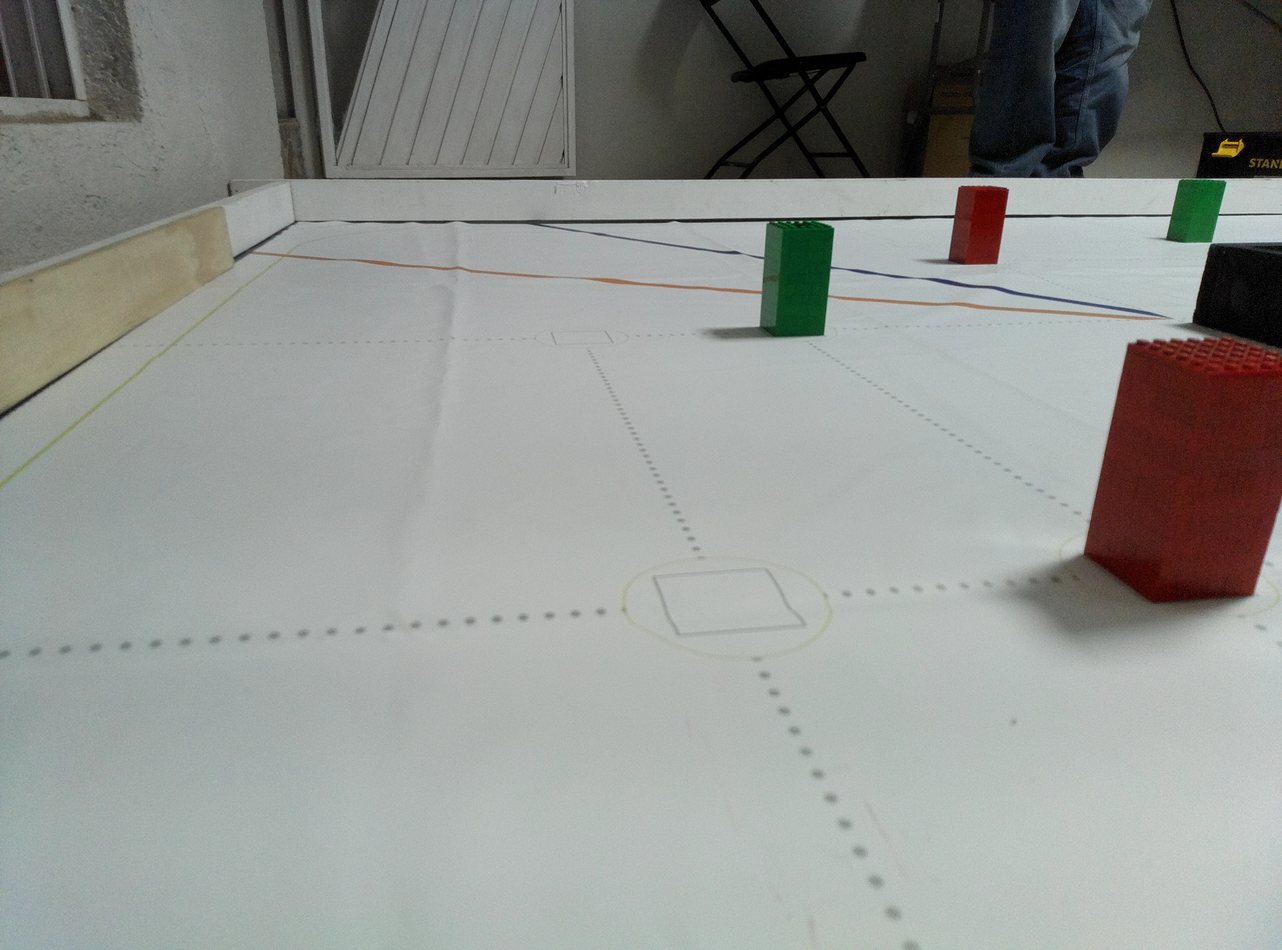greenbox: (760, 217, 837, 338), (1166, 179, 1230, 244)
redbox: (1078, 335, 1281, 606), (949, 184, 1011, 267)
